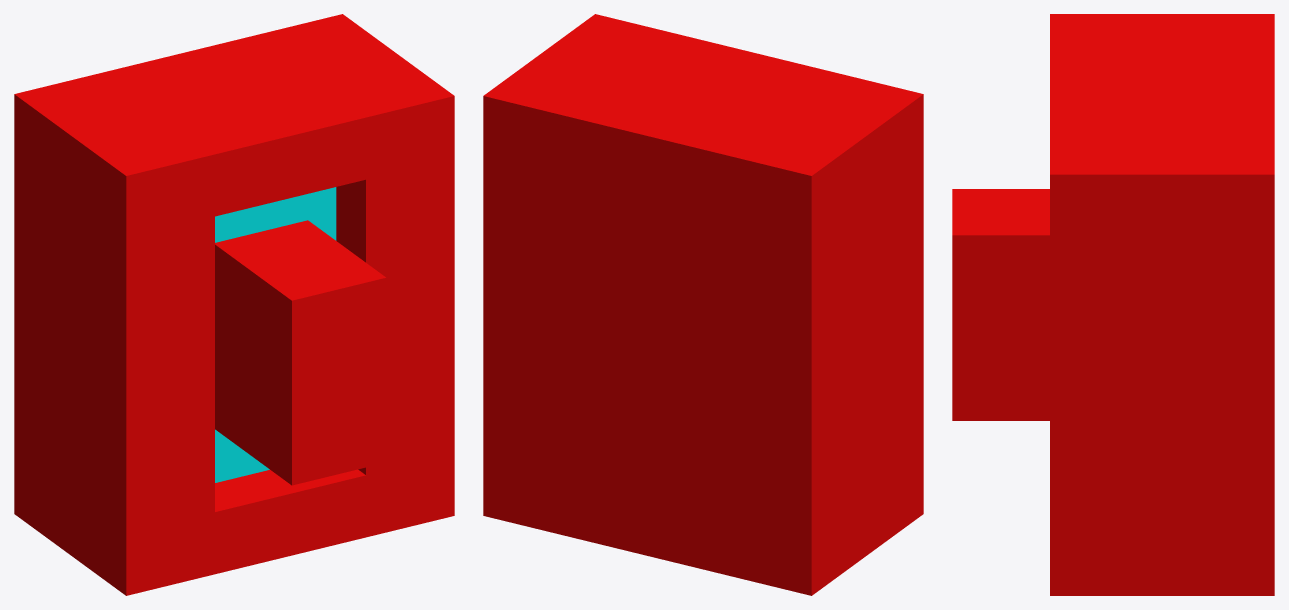
File: Test_exp_1.fbx
The picture shows the model from 3 angles, left to right: view 1: azimuth 30°, elevation 25°; view 2: azimuth 150°, elevation 25°; view 3: azimuth 270°, elevation 25°; orthographic projection.
Parts seen in each view (by area): view 1: Box001; view 2: Box001; view 3: Box001.
Boxes of the visible parts, x1,y1,x2,y2 form: Box001: (14,14,454,595); Box001: (483,14,923,595); Box001: (952,14,1274,595).
Size of the model in its own units: 1.77 by 2.17 by 1.5.
